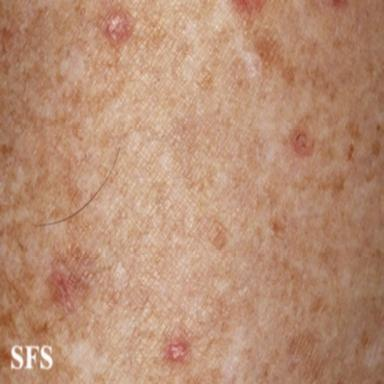Porokeratosis: (48, 265, 73, 313), (105, 10, 131, 43), (291, 129, 315, 157), (231, 0, 265, 18), (167, 341, 188, 362), (331, 0, 348, 8)
